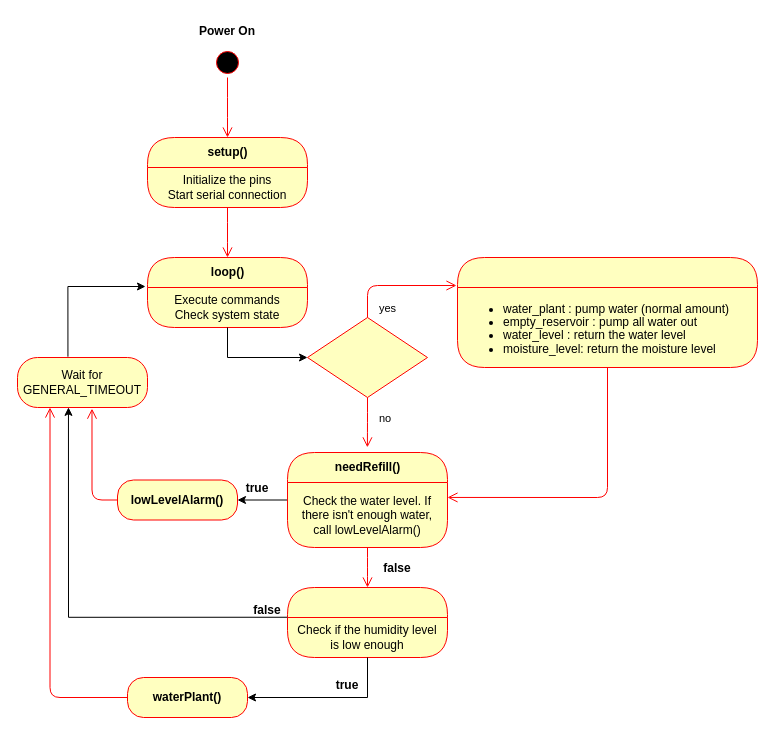
This 775x735 diagram has some shape labels left out. The box of each missing label's shape, as (x1, y1, x2, y2) in pixels:
Execute command: (456, 256, 758, 368)
needWatering(): (286, 586, 448, 658)
Received commands?: (306, 316, 428, 398)
